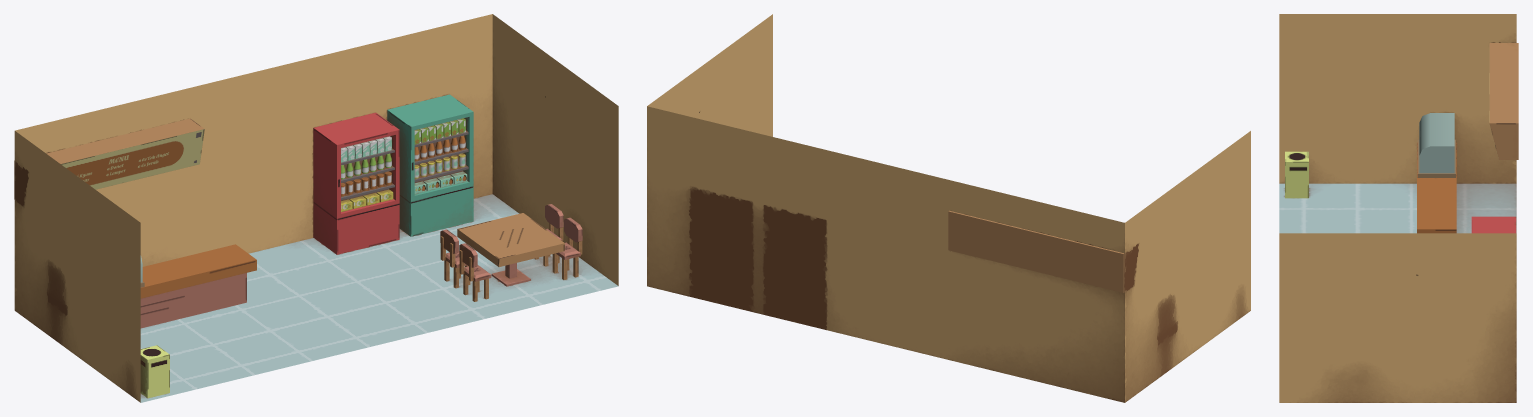
Rendered from BLD_Kantin.fbx.
3 views of the same model, side by side, from view 1: azimuth 30°, elevation 25°; view 2: azimuth 150°, elevation 25°; view 3: azimuth 270°, elevation 25° (orthographic). The views are drawn at different scales.
Visible parts, largest first — view 1: Cube.082, Cube.091, Cube.102, Cube.083, Cube.092, Cube.094, Cube.093, Cube.097, Cube.104, Cube.101, Cube.115, Circle.007 (+6 smaller); view 2: Cube.082, Cube.092; view 3: Cube.082, Cube.092, Cube.099, Cube.083, Cube.097, Cube.091.
Part boxes in pixels (x1=…): Cube.082: x1=14, y1=14, x2=618, y2=402; Cube.091: x1=313, y1=112, x2=399, y2=254; Cube.102: x1=387, y1=94, x2=473, y2=236; Cube.083: x1=140, y1=244, x2=256, y2=328; Cube.092: x1=14, y1=118, x2=204, y2=199; Cube.094: x1=440, y1=204, x2=582, y2=301; Cube.093: x1=457, y1=213, x2=564, y2=266; Cube.097: x1=140, y1=345, x2=169, y2=398; Cube.104: x1=414, y1=118, x2=465, y2=144; Cube.101: x1=341, y1=136, x2=391, y2=162; Cube.115: x1=414, y1=130, x2=468, y2=181; Circle.007: x1=414, y1=153, x2=465, y2=178; Cube.082: x1=647, y1=14, x2=1250, y2=402; Cube.092: x1=948, y1=210, x2=1124, y2=292; Cube.082: x1=1279, y1=14, x2=1516, y2=402; Cube.092: x1=1489, y1=43, x2=1518, y2=159; Cube.099: x1=1417, y1=113, x2=1455, y2=177; Cube.083: x1=1417, y1=142, x2=1456, y2=233; Cube.097: x1=1285, y1=151, x2=1308, y2=198; Cube.091: x1=1471, y1=216, x2=1516, y2=233.
Bounding box in the file's own units: 1329 × 486 × 612.
2 materials, 2 textured.
